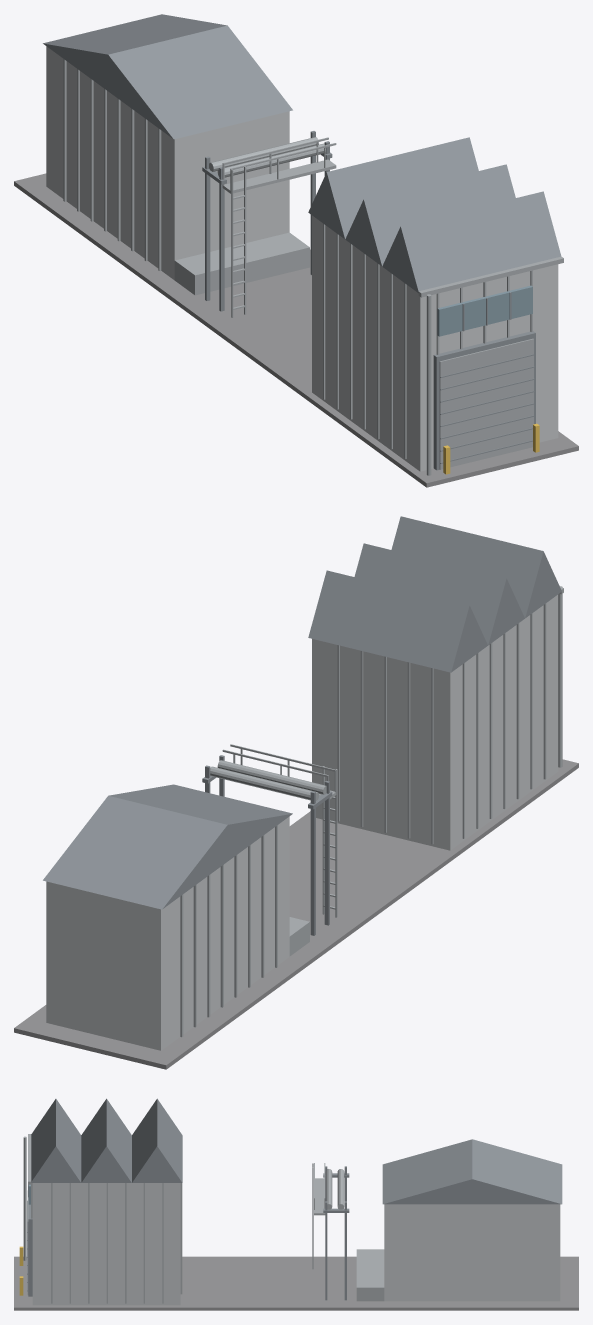
Rendered from industrial_1x4_b.glb.
3 renders of one model, top to bottom at view 1: azimuth 30°, elevation 25°; view 2: azimuth 150°, elevation 25°; view 3: azimuth 270°, elevation 25°, orthographic. The views are drawn at different scales.
Visible parts, largest first — view 1: industrial_1x4_b_yard; view 2: industrial_1x4_b_yard; view 3: industrial_1x4_b_yard.
Boxes of the visible parts, x1,y1,x2,y2 form: industrial_1x4_b_yard: (14, 14, 578, 487); industrial_1x4_b_yard: (14, 516, 578, 1069); industrial_1x4_b_yard: (14, 1098, 578, 1310).
Size of the model in its own units: 6.5 by 9.7 by 30.5.
